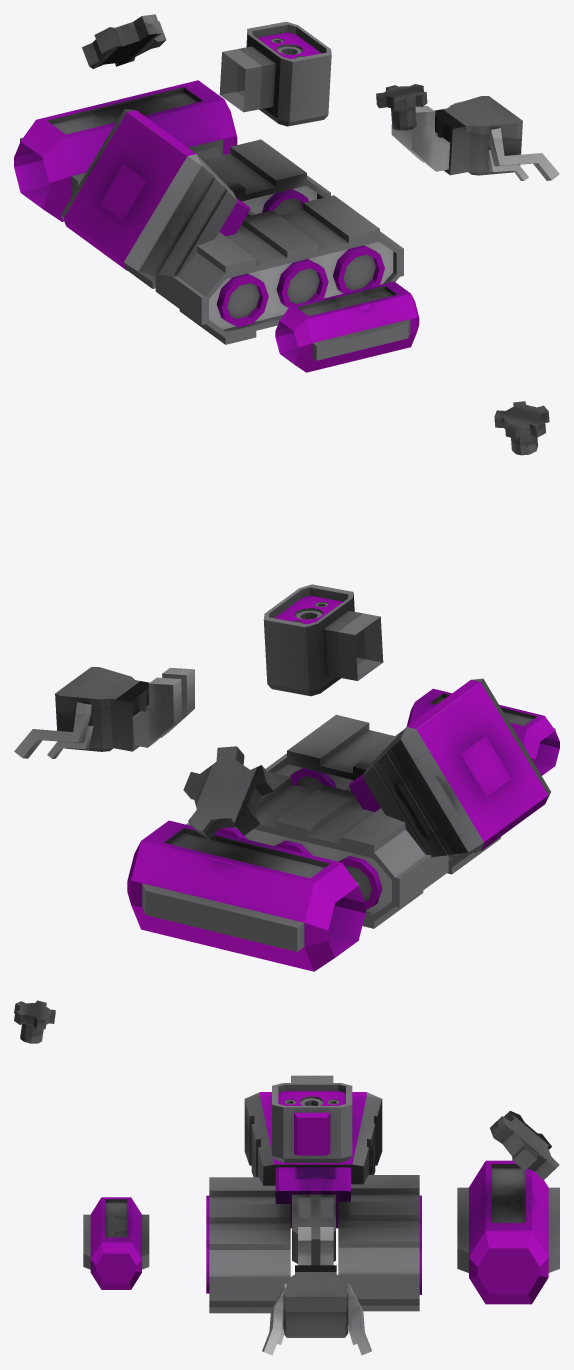
Rendered from Enemy2_Die22.obj.
3 renders of one model, top to bottom at view 1: azimuth 30°, elevation 25°; view 2: azimuth 150°, elevation 25°; view 3: azimuth 270°, elevation 25°, orthographic. The views are drawn at different scales.
Parts seen in each view (by area): view 1: Object006, Object013, Object011, Object014, Object012, Object010, Object009, Object008; view 2: Object011, Object013, Object006, Object010, Object012, Object009, Object014, Object008; view 3: Object006, Object011, Object013, Object010, Object012, Object014, Object009, Object008.
Boxes of the visible parts, left/top/right/bottom form: Object006: left=128, top=139, right=403, bottom=344; Object013: left=61, top=109, right=255, bottom=276; Object011: left=14, top=80, right=237, bottom=221; Object014: left=275, top=281, right=419, bottom=372; Object012: left=219, top=21, right=331, bottom=126; Object010: left=391, top=96, right=559, bottom=180; Object009: left=82, top=14, right=166, bottom=68; Object008: left=376, top=84, right=427, bottom=130; Object011: left=127, top=820, right=365, bottom=971; Object013: left=345, top=678, right=550, bottom=857; Object006: left=186, top=714, right=500, bottom=928; Object010: left=14, top=667, right=194, bottom=758; Object012: left=263, top=584, right=383, bottom=696; Object009: left=183, top=746, right=273, bottom=839; Object014: left=406, top=688, right=559, bottom=775; Object008: left=494, top=401, right=549, bottom=455; Object006: left=206, top=1175, right=421, bottom=1313; Object011: left=457, top=1160, right=559, bottom=1304; Object013: left=244, top=1092, right=382, bottom=1265; Object010: left=262, top=1227, right=371, bottom=1355; Object012: left=272, top=1075, right=352, bottom=1162; Object014: left=83, top=1197, right=149, bottom=1289; Object009: left=490, top=1111, right=559, bottom=1180; Object008: left=14, top=1000, right=55, bottom=1043.
Bounding box in the file's own units: 189 × 127 × 230.
